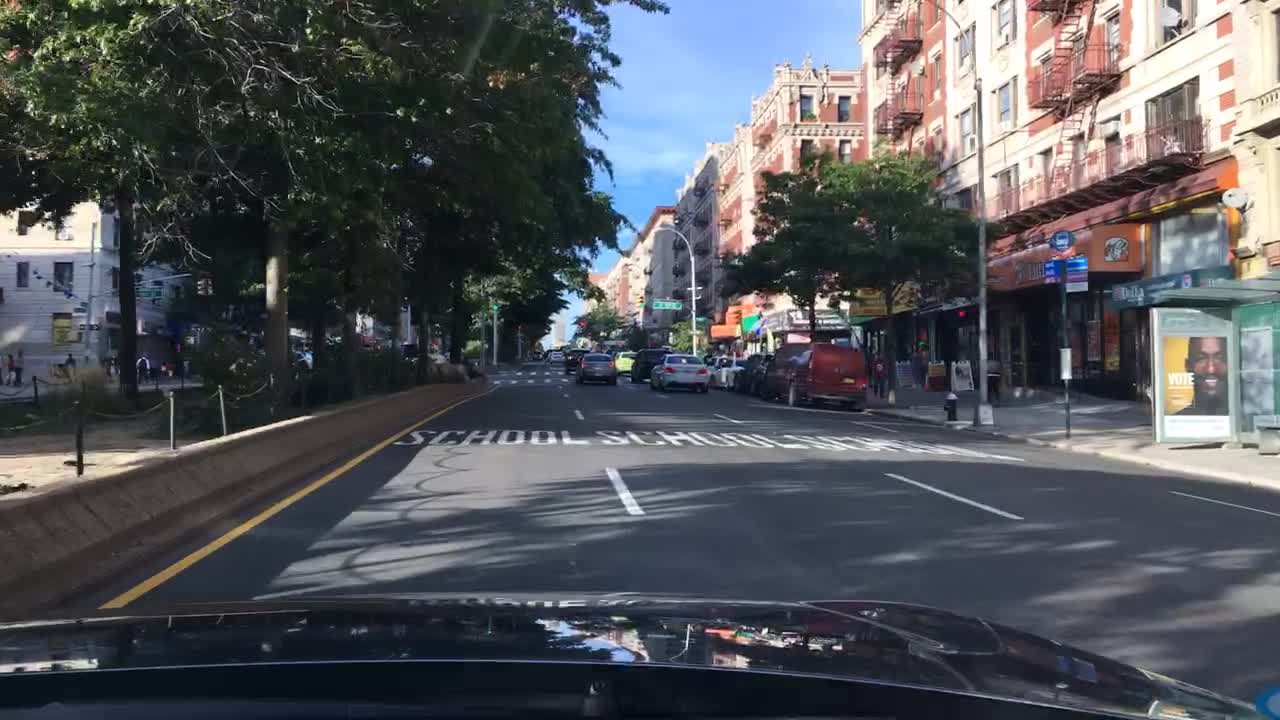car: (754, 338, 872, 416), (646, 346, 714, 395), (725, 350, 775, 396), (627, 345, 682, 385), (574, 345, 622, 388), (708, 351, 750, 390), (607, 348, 643, 379), (564, 345, 595, 375), (599, 343, 632, 361), (546, 345, 567, 364), (530, 345, 548, 364)
person: (869, 345, 895, 401), (982, 346, 1005, 409), (131, 348, 155, 392), (701, 343, 722, 392), (0, 346, 18, 390), (62, 345, 81, 385), (105, 353, 126, 385), (13, 348, 29, 390)
traffic light: (953, 301, 972, 324), (490, 293, 503, 312), (577, 316, 590, 330)
traffic sign: (1063, 254, 1092, 295), (1047, 227, 1076, 254), (651, 296, 687, 312), (1040, 259, 1056, 288), (134, 285, 165, 298), (682, 280, 703, 293), (78, 321, 105, 330), (71, 303, 89, 316), (78, 298, 91, 309)
